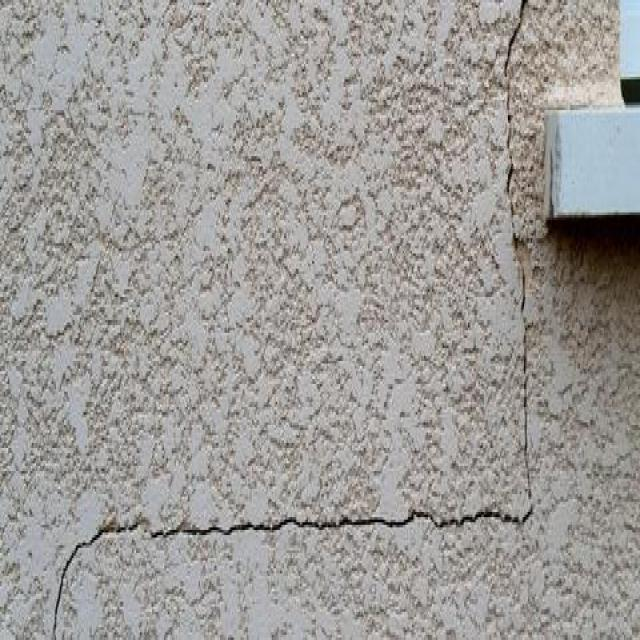crack: (151, 0, 535, 540), (52, 520, 142, 635)
